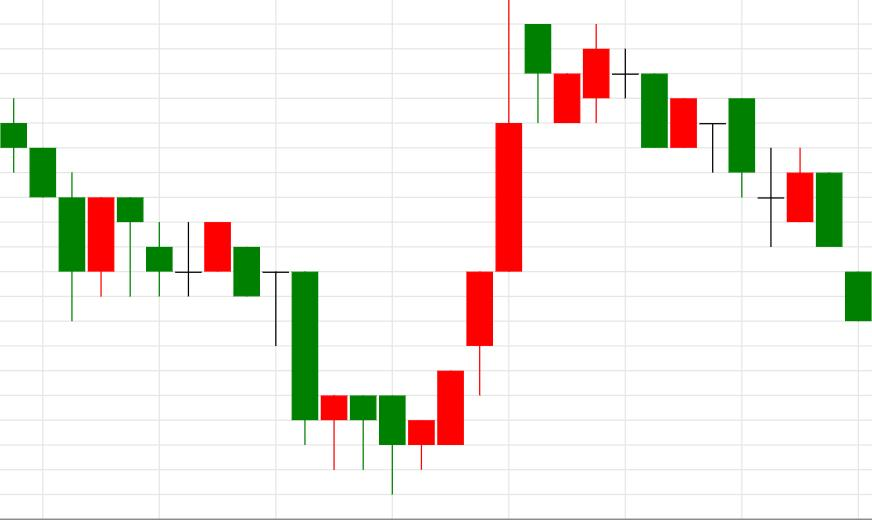morning_star_rise: (583, 23, 814, 248)
three_white_soldiers_rise: (205, 1, 522, 494)
